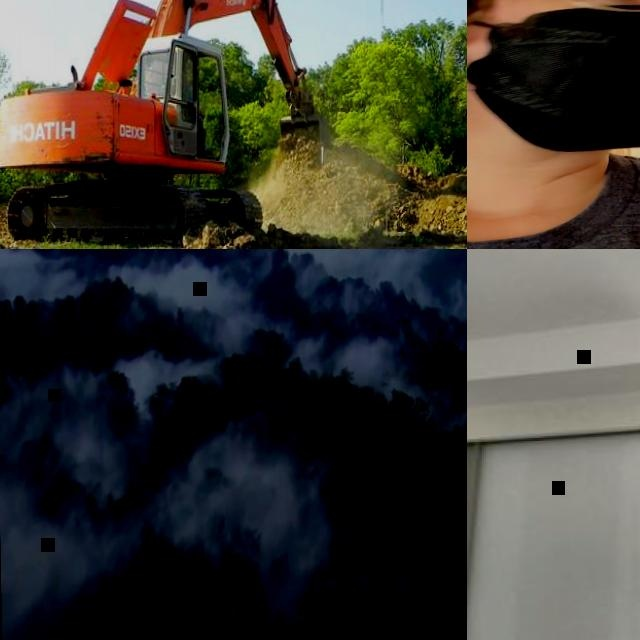Mask: (467, 0, 640, 154)
NO-Safety Vest: (467, 153, 640, 249)
Person: (467, 0, 640, 249), (547, 442, 640, 640), (179, 78, 212, 158)
machinery: (0, 0, 330, 246)
